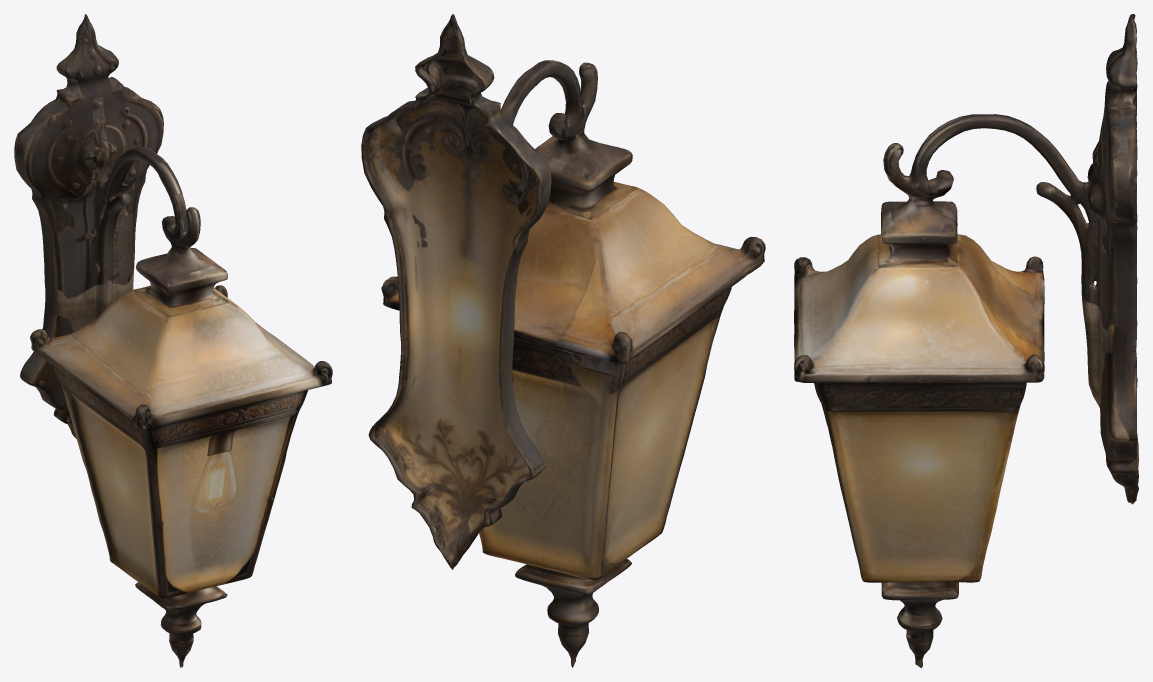
The model's file is Bulb.fbx.
3 views of the same model, side by side, from view 1: azimuth 30°, elevation 25°; view 2: azimuth 150°, elevation 25°; view 3: azimuth 270°, elevation 25° (orthographic). The views are drawn at different scales.
Visible parts, largest first — view 1: Mesh_0; view 2: Mesh_0; view 3: Mesh_0.
Part boxes in pixels (bbox=[...]): Mesh_0: bbox=[14, 14, 332, 667]; Mesh_0: bbox=[361, 14, 765, 667]; Mesh_0: bbox=[794, 14, 1138, 667].
Bounding box in the file's own units: 69.8 × 201 × 95.85.
1 material, 1 textured.
